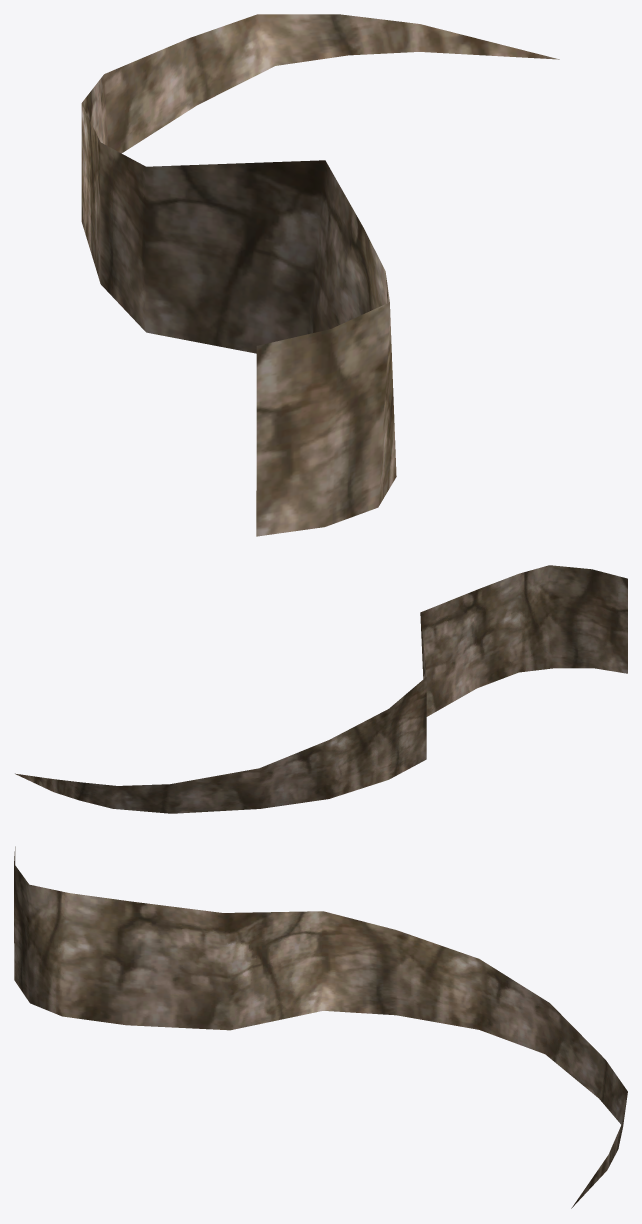
File: EKH_GROTTO_PS_GR_STRIP.fbx
3 renders of one model, top to bottom at view 1: azimuth 30°, elevation 25°; view 2: azimuth 150°, elevation 25°; view 3: azimuth 270°, elevation 25°, orthographic. The views are drawn at different scales.
Parts seen in each view (by area): view 1: EKH_GROTTO_PS_GR_STRIP; view 2: EKH_GROTTO_PS_GR_STRIP; view 3: EKH_GROTTO_PS_GR_STRIP.
Part boxes in pixels (box(x1,y1,x2,y2)): EKH_GROTTO_PS_GR_STRIP: box(81, 14, 559, 536); EKH_GROTTO_PS_GR_STRIP: box(15, 565, 627, 813); EKH_GROTTO_PS_GR_STRIP: box(14, 846, 627, 1208).
Size of the model in its own units: 61567 by 18323 by 71153.
1 material, 1 textured.
